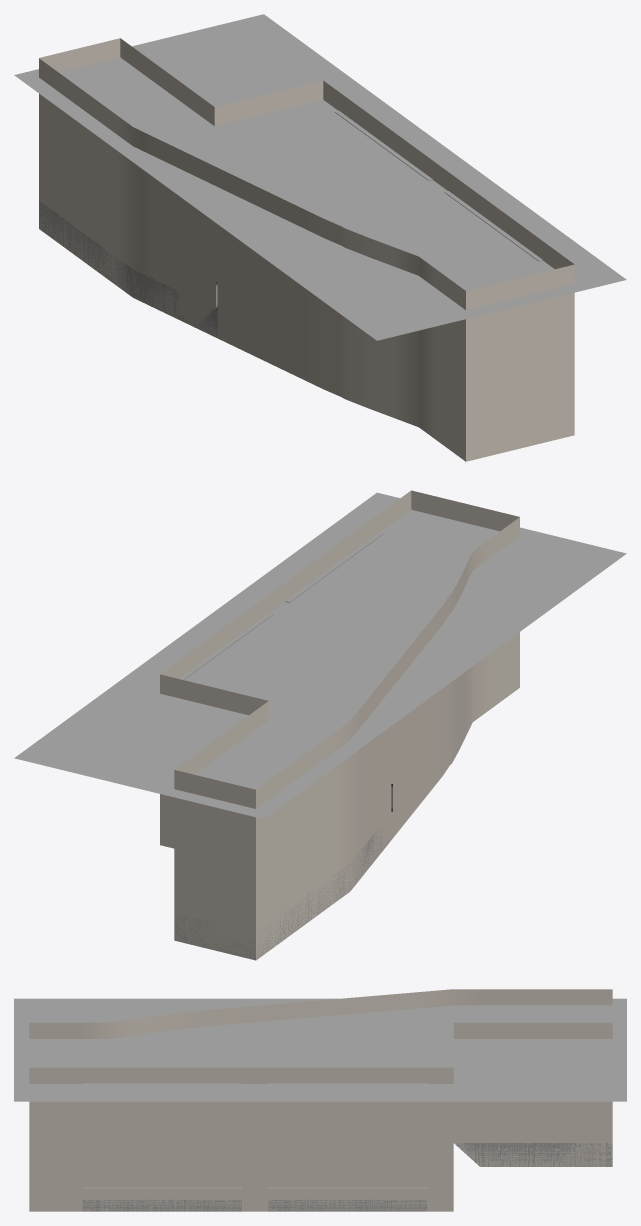
File: r_CommCenter.fbx
The picture shows the model from 3 angles, top to bottom: view 1: azimuth 30°, elevation 25°; view 2: azimuth 150°, elevation 25°; view 3: azimuth 270°, elevation 25°; orthographic projection. The views are drawn at different scales.
Visible parts, largest first — view 1: pPlane1, pPlane2; view 2: pPlane2, pPlane1; view 3: pPlane1, pPlane2, pCube2, pCube8, pCube5, pCube6.
Boxes of the visible parts, x1,y1,x2,y2 form: pPlane1: (39,38,574,461); pPlane2: (14,14,626,340); pPlane2: (14,492,626,819); pPlane1: (160,490,519,960); pPlane1: (29,989,612,1211); pPlane2: (14,998,626,1101); pCube2: (82,1199,241,1211); pCube8: (268,1199,426,1211); pCube5: (82,1083,241,1188); pCube6: (268,1083,427,1188).
Size of the model in its own units: 9.19 by 6 by 23.12.
